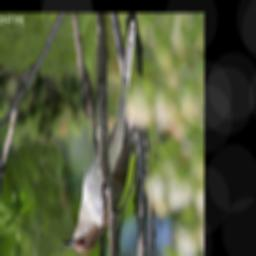Cuckoo: (60, 17, 136, 256)
